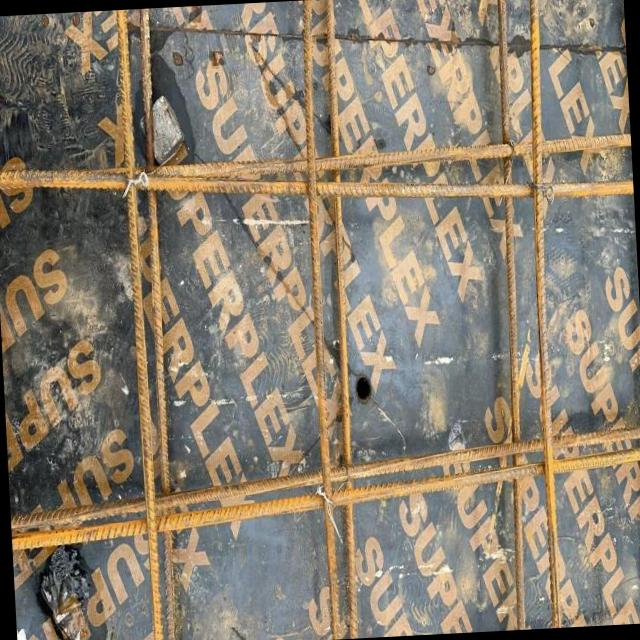ribbed bar: (8, 426, 640, 530), (9, 448, 640, 549), (0, 135, 634, 233), (516, 0, 571, 627), (484, 0, 538, 629), (294, 0, 346, 639), (314, 0, 366, 638), (133, 8, 182, 640), (114, 9, 163, 640), (136, 136, 632, 182)
